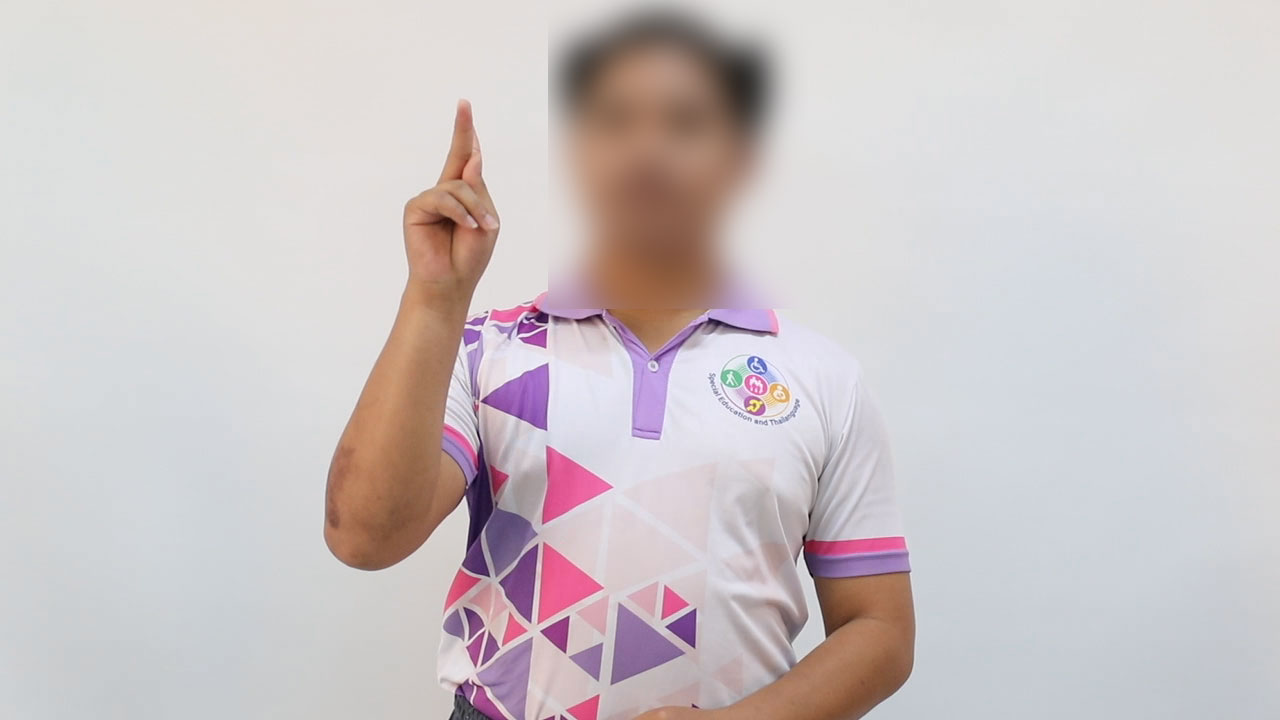ko: (385, 81, 513, 291)
